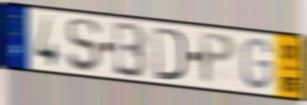4: (33, 13, 63, 70)
B: (112, 20, 150, 80)
D: (152, 24, 188, 83)
G: (240, 37, 274, 91)
P: (198, 30, 238, 87)
S: (65, 17, 102, 73)
